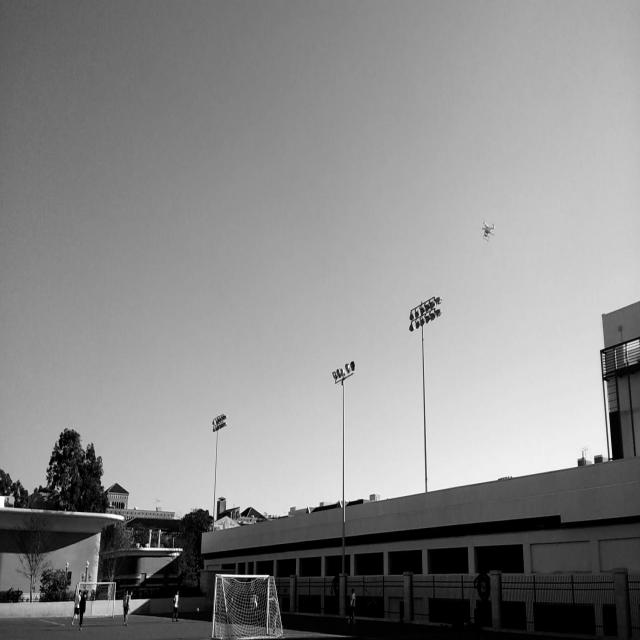drone: (476, 218, 498, 244)
